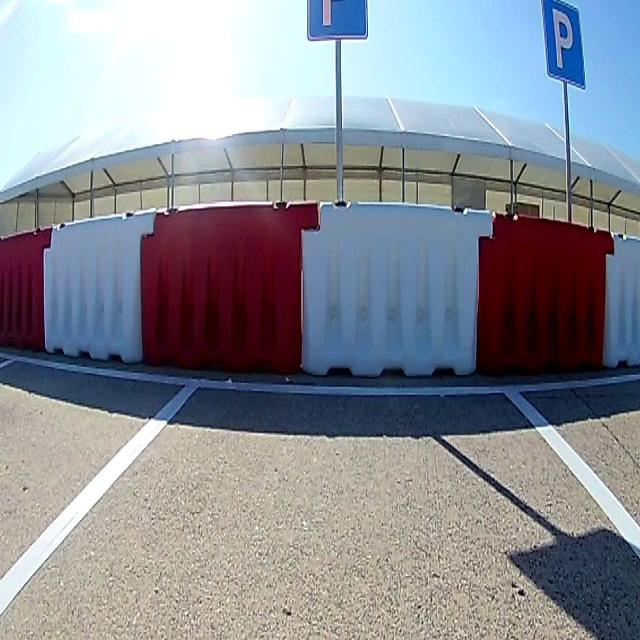park: (541, 1, 584, 87)
